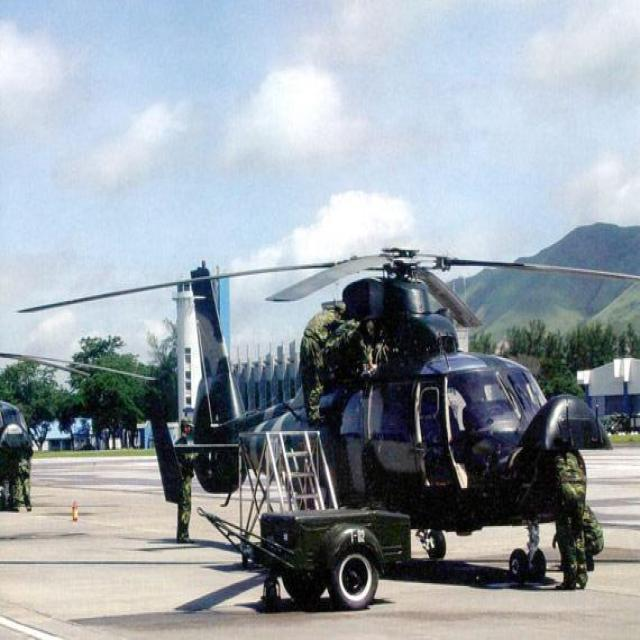MIL_HELO: (28, 237, 640, 560)
